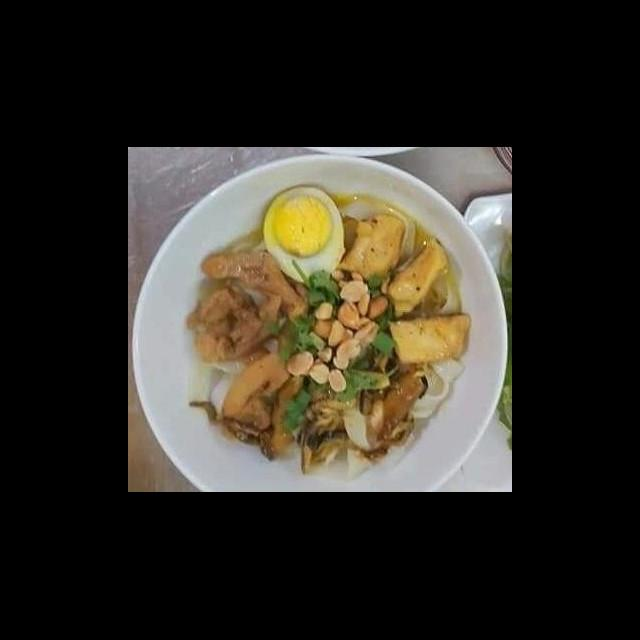ca: (378, 236, 451, 320), (335, 212, 408, 284), (385, 310, 473, 368)
mi: (407, 354, 466, 424)
trung: (258, 182, 348, 284)
